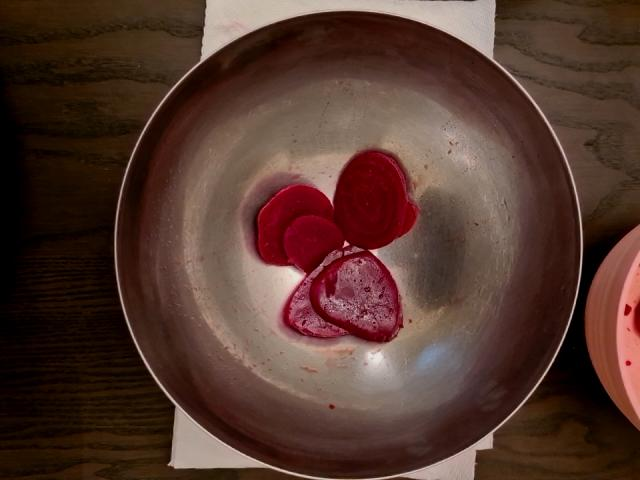kichen waste: (257, 152, 419, 343)
